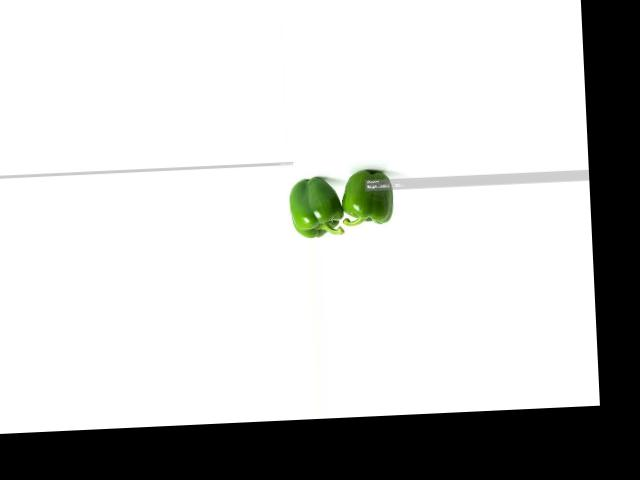bell_pepper: (288, 167, 343, 242)
